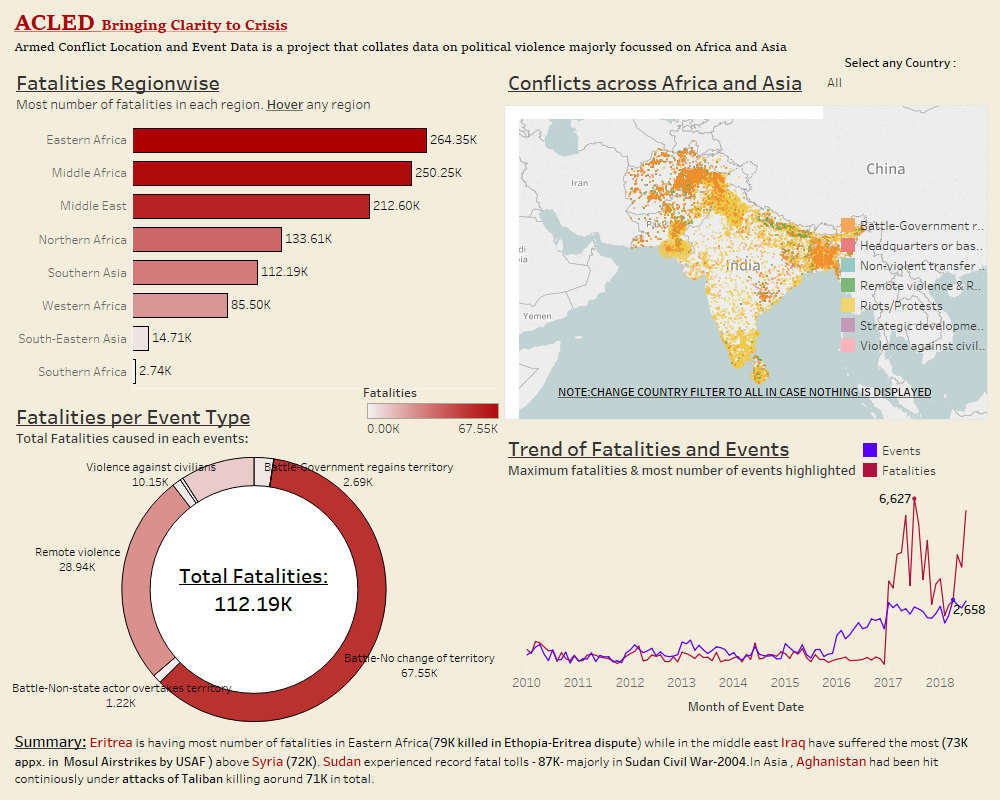

What the dashboard file says about the page in this screenshot:
{"tool":"tableau","page":{"name":"Dashboard 1","canvas":[1000,800],"ordinal":0},"visuals":[{"type":"title","box":[8,8,984,50]},{"type":"text","box":[842,47,118,30]},{"type":"worksheet","title":"Fatalities Regionwise","mark":"Automatic","rows":["region"],"cols":["fatalities"],"box":[8,58,492,333.9]},{"type":"worksheet","title":"Conflicts across Africa and Asia","mark":"Automatic","rows":["latitude"],"cols":["longitude"],"box":[500,58,492,365.8]},{"type":"filter","title":"Conflicts across Africa and Asia","param":"[federated.09qa2wr0dp7brq15th2hf099uzgx].[none:country:nk]","box":[825,74,160,25]},{"type":"blank","box":[502,103,500,318]},{"type":"legend","title":"Conflicts across Africa and Asia","param":"[federated.09qa2wr0dp7brq15th2hf099uzgx].[Event Type (group)]","box":[838,215,148,148]},{"type":"text","box":[509,374,472,34]},{"type":"legend","title":"Fatalities per Event Type","param":"[federated.09qa2wr0dp7brq15th2hf099uzgx].[sum:fatalities:qk]","box":[363,380,140,76]},{"type":"worksheet","title":"Fatalities per Event Type","mark":"Pie","rows":["Number of Records","Number of Records"],"box":[8,391.9,492,334.1]},{"type":"blank","box":[7,398,992,400]},{"type":"worksheet","title":"Trend of Fatalities and Events","mark":"Line","rows":["fatalities","event_id_no_cnty"],"cols":["event_date"],"box":[500,423.8,492,302.2]},{"type":"legend","title":"Trend of Fatalities and Events","param":"[federated.09qa2wr0dp7brq15th2hf099uzgx].[:Measure Names]","box":[860,440,140,40]},{"type":"text","box":[8,726,984,66]}]}

Visuals, with their boxes in screenshot pixels (x1, y1, x2, y2), scaled from the page's 1000x800 canvas onto the 1000x800 screenshot:
title: (8,8,992,58)
text: (842,47,960,77)
"Fatalities Regionwise" worksheet: (8,58,500,392)
"Conflicts across Africa and Asia" worksheet: (500,58,992,424)
"Conflicts across Africa and Asia" filter: (825,74,985,99)
blank: (502,103,999,421)
"Conflicts across Africa and Asia" legend: (838,215,986,363)
text: (509,374,981,408)
"Fatalities per Event Type" legend: (363,380,503,456)
"Fatalities per Event Type" worksheet (Pie marks): (8,392,500,726)
blank: (7,398,999,798)
"Trend of Fatalities and Events" worksheet (Line marks): (500,424,992,726)
"Trend of Fatalities and Events" legend: (860,440,999,480)
text: (8,726,992,792)
